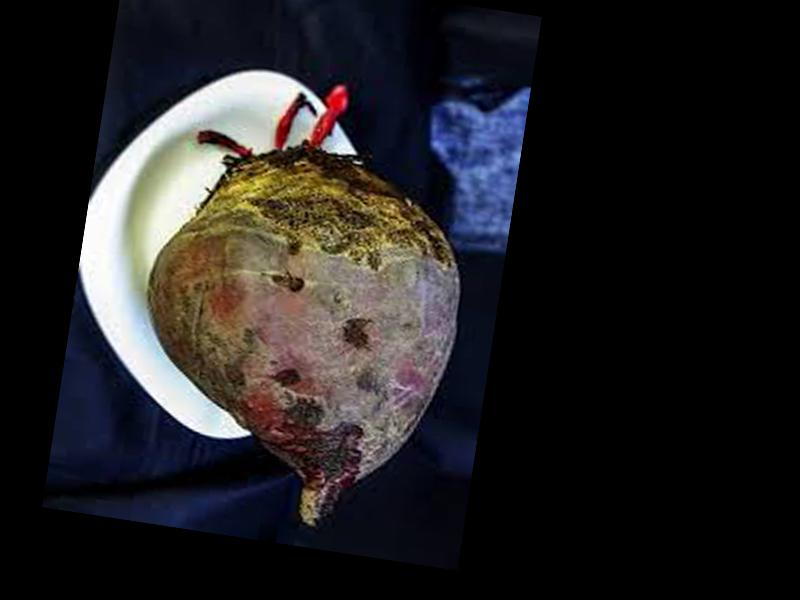Beet: (118, 60, 485, 539)
